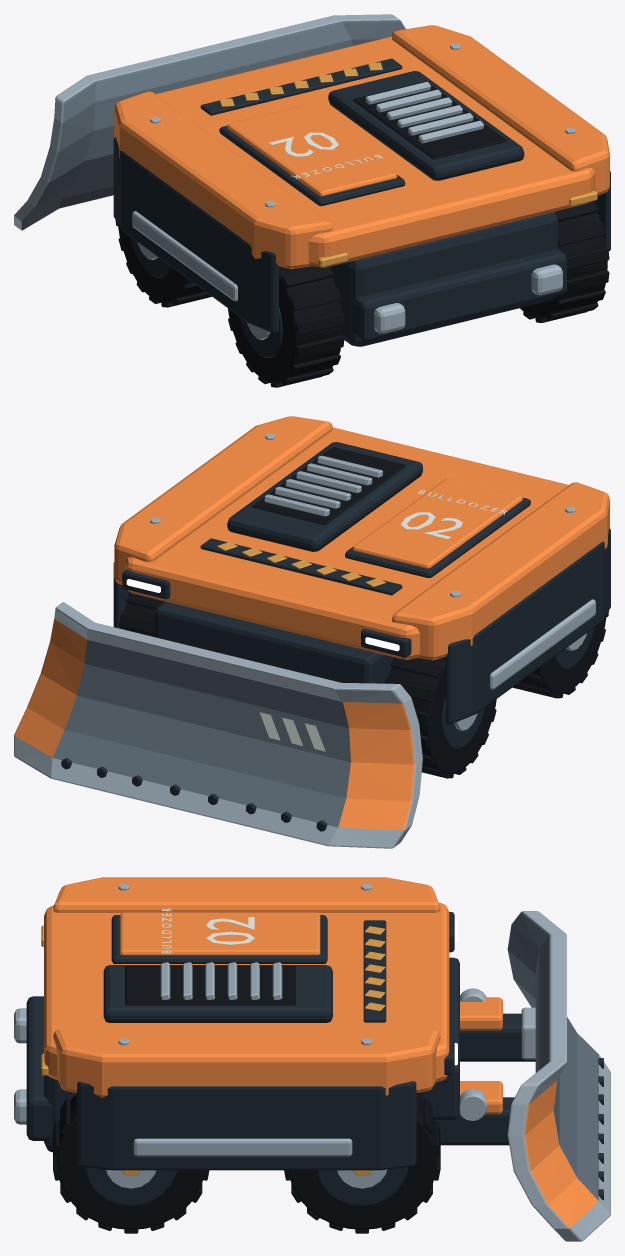
Rendered from bulldozer_v01.glb.
The picture shows the model from 3 angles, top to bottom: view 1: azimuth 30°, elevation 25°; view 2: azimuth 150°, elevation 25°; view 3: azimuth 270°, elevation 25°; orthographic projection. The views are drawn at different scales.
Visible parts, largest first — view 1: ChassisMesh, WeaponMesh, Wheel_RL_Mesh, Wheel_RR_Mesh, Wheel_FL_Mesh; view 2: ChassisMesh, WeaponMesh, Wheel_FL_Mesh, Wheel_RL_Mesh, Wheel_FR_Mesh; view 3: ChassisMesh, WeaponMesh, Wheel_FR_Mesh, Wheel_RR_Mesh.
Boxes of the visible parts, x1,y1,x2,y2 form: ChassisMesh: [113, 25, 610, 346]; WeaponMesh: [14, 14, 405, 230]; Wheel_RL_Mesh: [228, 266, 344, 387]; Wheel_RR_Mesh: [520, 201, 609, 322]; Wheel_FL_Mesh: [115, 220, 211, 307]; ChassisMesh: [113, 416, 610, 723]; WeaponMesh: [14, 602, 422, 848]; Wheel_FL_Mesh: [385, 657, 496, 778]; Wheel_RL_Mesh: [512, 611, 608, 698]; Wheel_FR_Mesh: [118, 592, 164, 636]; ChassisMesh: [14, 877, 459, 1170]; WeaponMesh: [433, 911, 610, 1241]; Wheel_FR_Mesh: [284, 1093, 440, 1233]; Wheel_RR_Mesh: [53, 1093, 209, 1233].
Size of the model in its own units: 1.79 by 0.8367 by 2.24.
